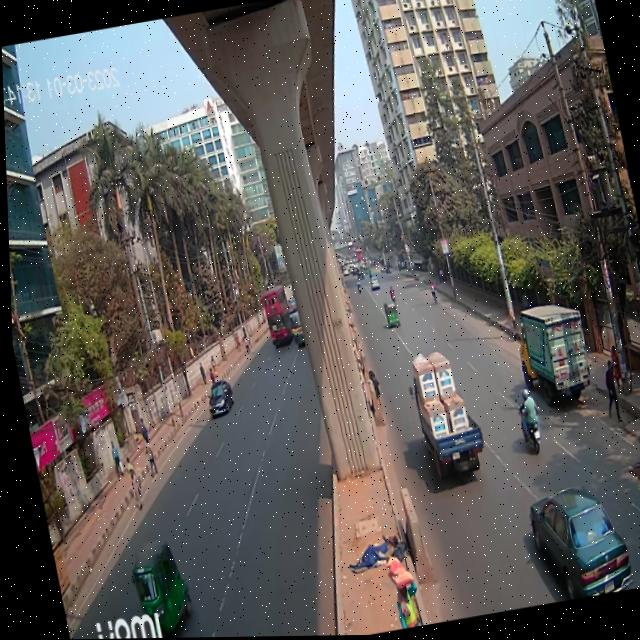cng: (115, 524, 197, 639), (379, 300, 401, 331)
